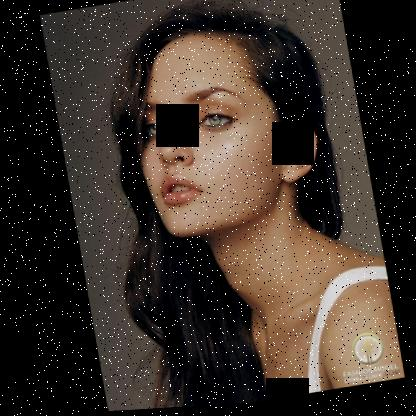Female: (117, 20, 325, 242)
